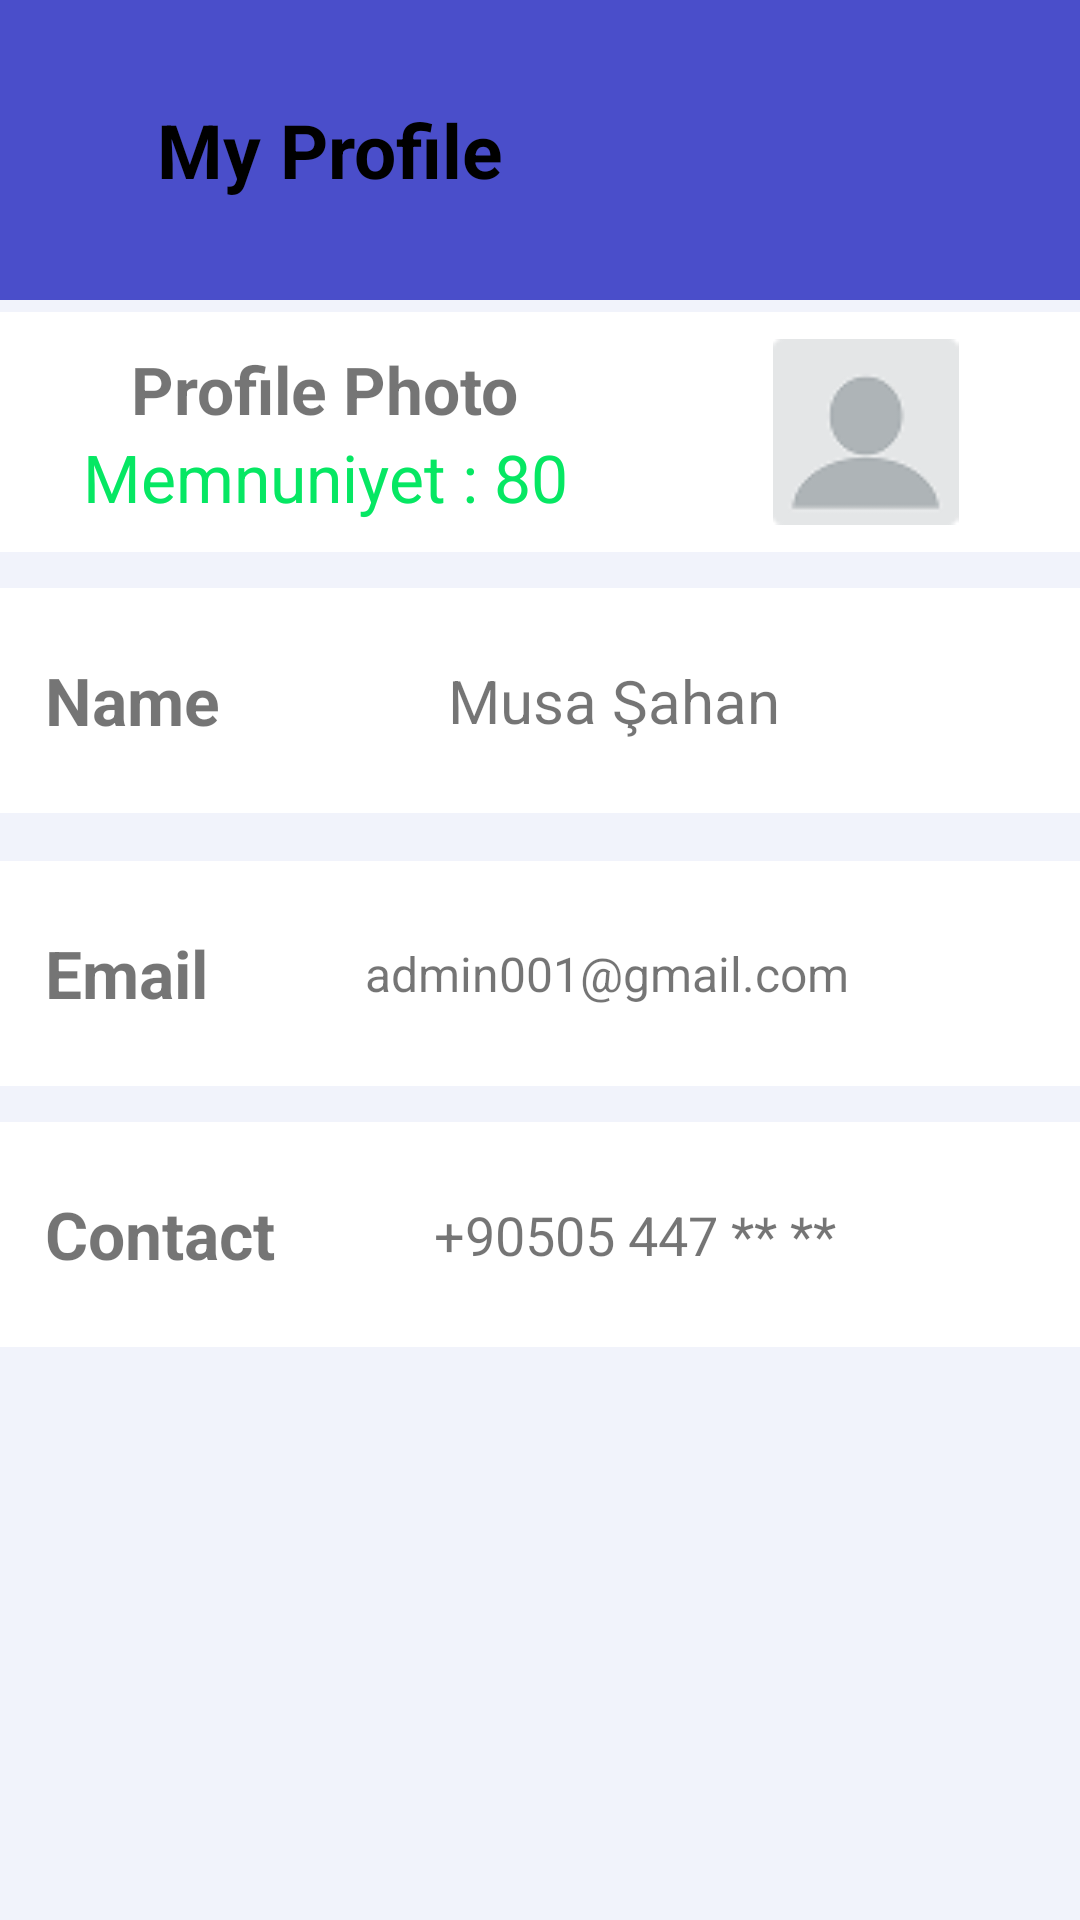

Screen size 1080px x 1920px. Icon name, then its center in pixels as point (x, y):
prifile: point (865, 443)
